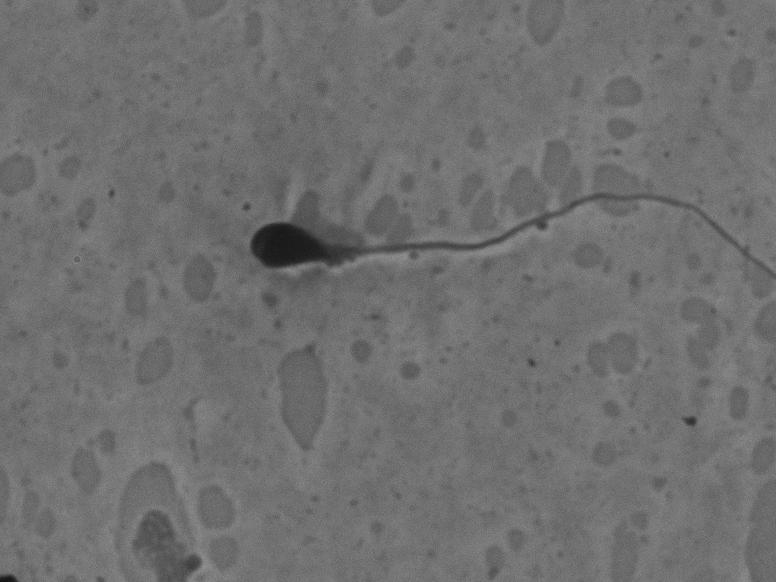Abnormal: (191, 138, 758, 332)
